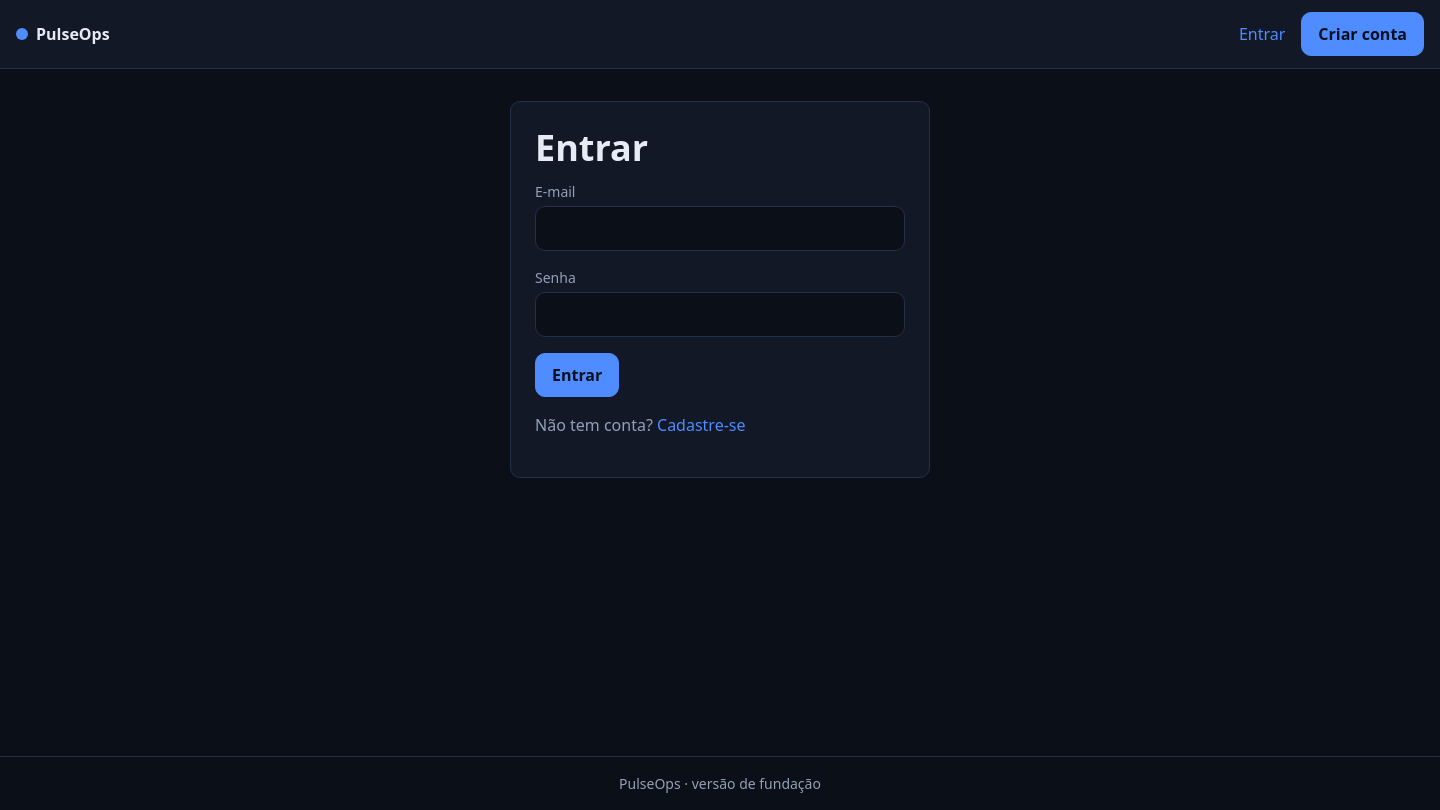
App › mostra o erro retornado pela API quando o login falha
The width and height of the screenshot is (1440, 810).
Type "ana@example.com" into the field labelled "E-mail".
click(720, 228); type("ana@example.com")  # box [535, 206, 905, 251]
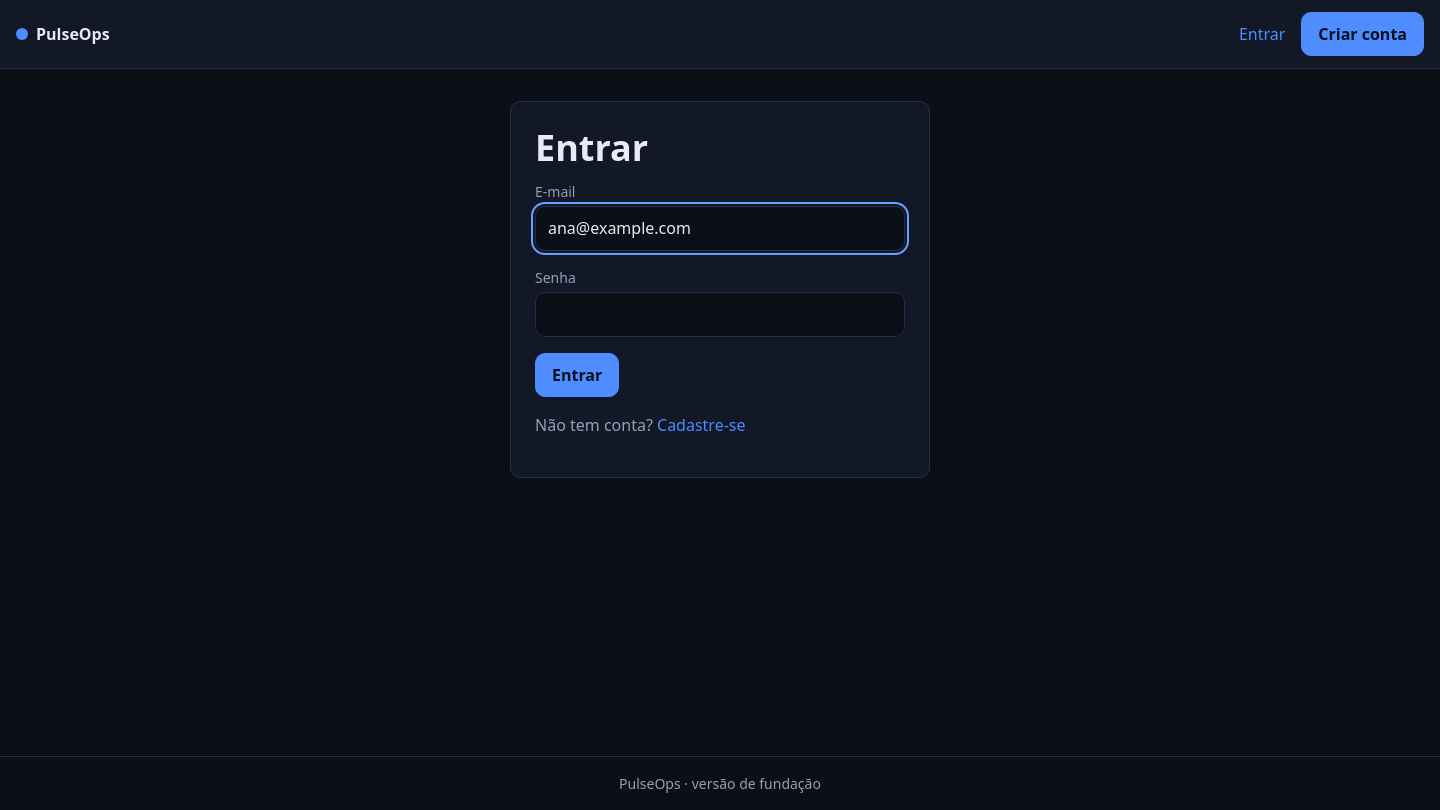
Type "senha-errada" into the password field labelled "Senha".
click(720, 315); type("senha-errada")  # box [535, 292, 905, 337]
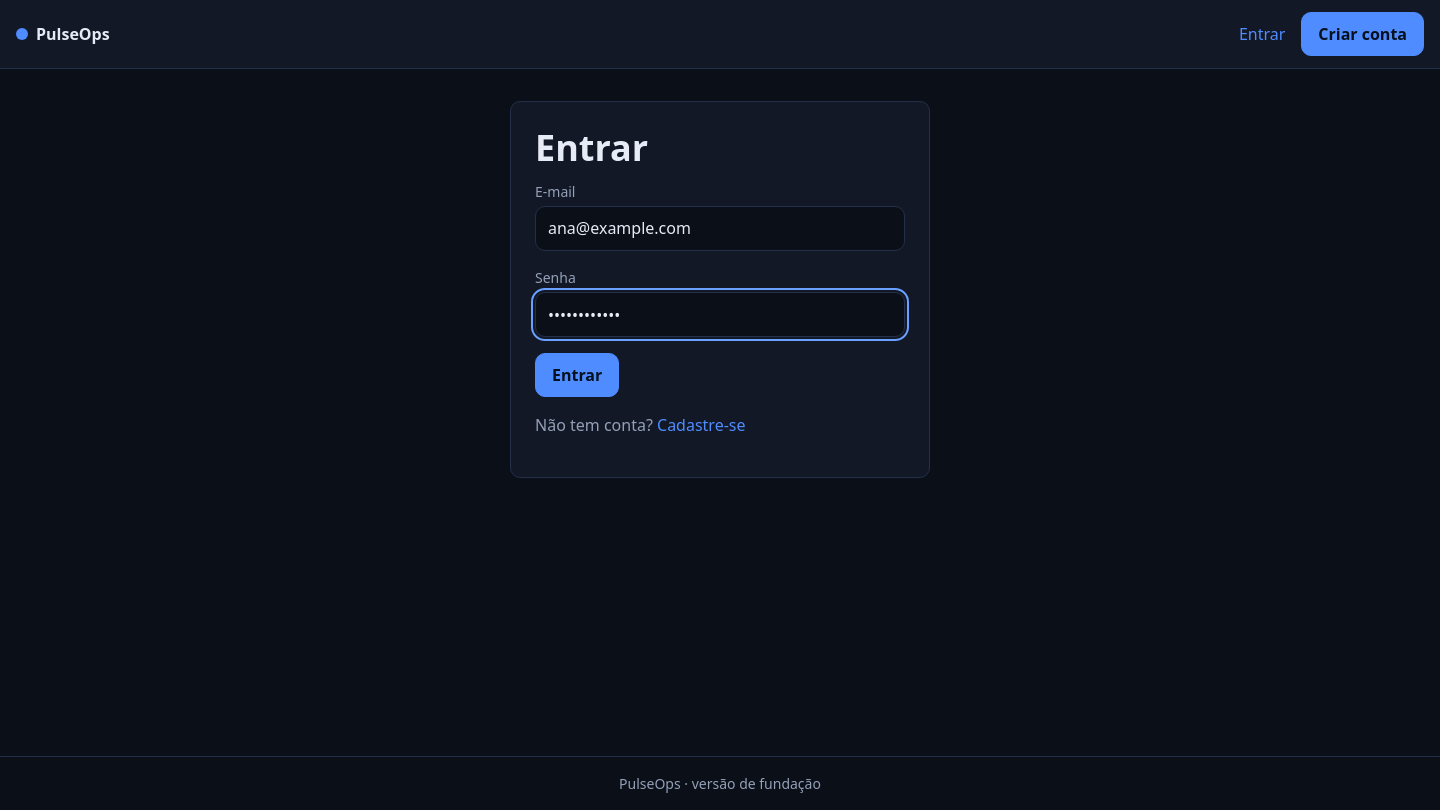
Click the button "Entrar".
click(577, 375)  # box [535, 353, 619, 397]
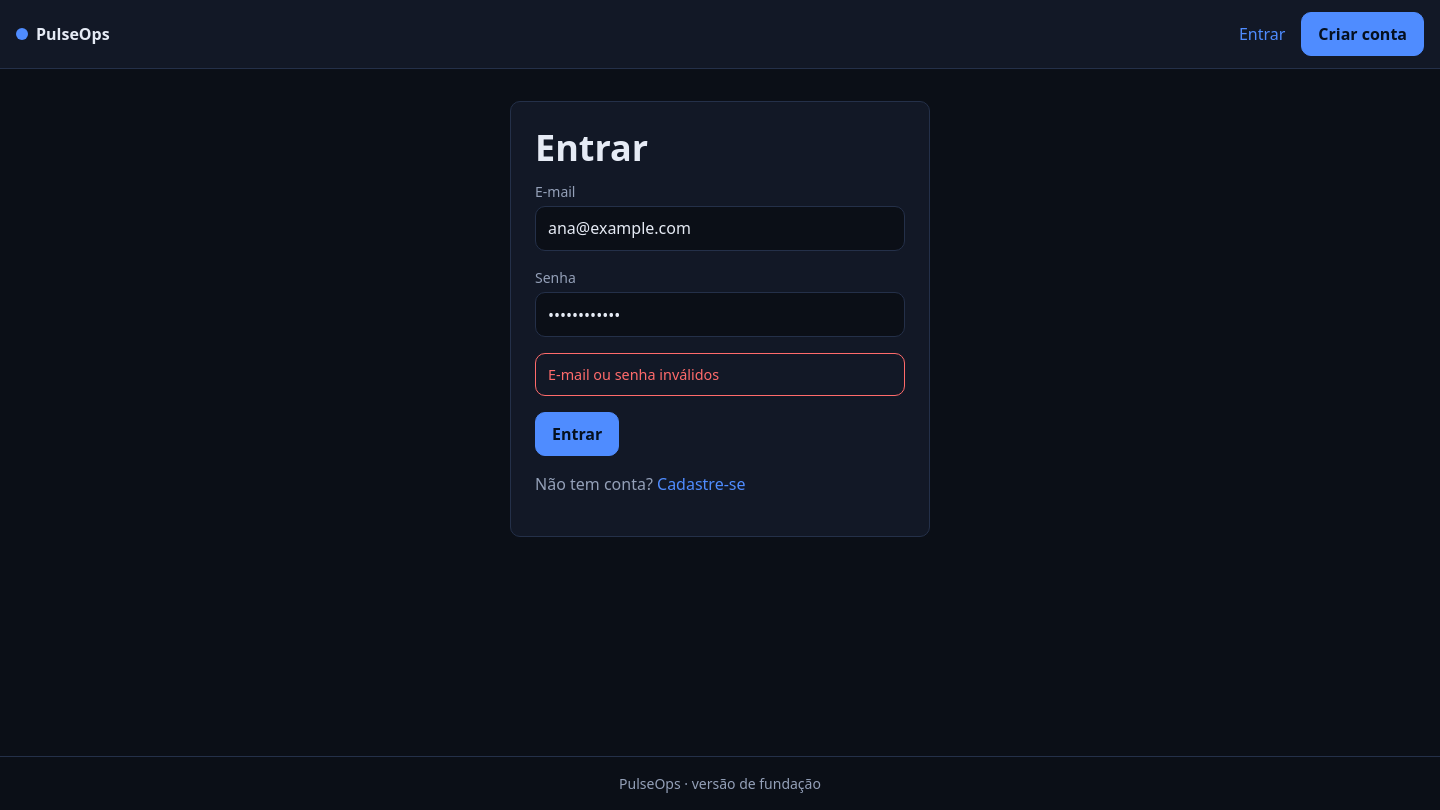
Expected: the message reads "E-mail ou senha inválidos", [548, 365, 719, 384]
